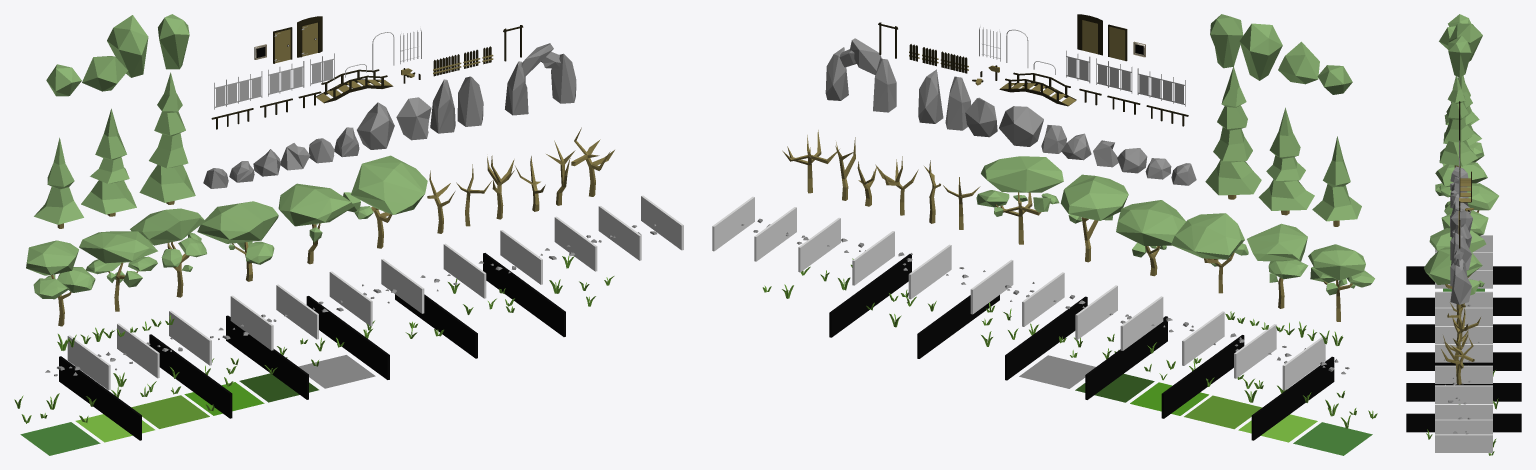
The model's file is model_set.fbx.
The picture shows the model from 3 angles, left to right: view 1: azimuth 30°, elevation 25°; view 2: azimuth 150°, elevation 25°; view 3: azimuth 270°, elevation 25°; orthographic projection. The views are drawn at different scales.
Parts seen in each view (by area): view 1: set_summer:set_summer:polySurface43, set_summer:set_summer:pCylinder3, set_summer:set_summer:pCube50, set_summer:set_summer:polySurface42, set_summer:set_summer:polySurface41, set_summer:set_summer:pSolid23, set_summer:set_summer:pCylinder2, set_summer:set_summer:pCylinder49, set_summer:set_summer:pCube51, set_summer:set_summer:pCube286, set_summer:set_summer:pCube261, set_summer:set_summer:pCube262 (+36 smaller); view 2: set_summer:set_summer:polySurface43, set_summer:set_summer:pCylinder3, set_summer:set_summer:pSolid23, set_summer:set_summer:pCylinder49, set_summer:set_summer:pCylinder2, set_summer:set_summer:pCube50, set_summer:set_summer:pCube51, set_summer:set_summer:polySurface42, set_summer:set_summer:polySurface41, set_summer:set_summer:pCube261, set_summer:set_summer:pCube286, set_summer:set_summer:pCube262 (+35 smaller); view 3: set_summer:set_summer:pCylinder3, set_summer:set_summer:pCube264, set_summer:set_summer:pCube272, set_summer:set_summer:pCube286, set_summer:set_summer:polySurface43, set_summer:set_summer:pCube262, set_summer:set_summer:pCube263, set_summer:set_summer:pCube298, set_summer:set_summer:pCube295, set_summer:set_summer:pCube294, set_summer:set_summer:pCube261, set_summer:set_summer:pCube291 (+30 smaller).
Part boxes in pixels (x1=…): set_summer:set_summer:polySurface43: x1=343, y1=155, x2=427, y2=248; set_summer:set_summer:pCylinder3: x1=139, y1=72, x2=195, y2=204; set_summer:set_summer:pCube50: x1=197, y1=201, x2=278, y2=281; set_summer:set_summer:polySurface42: x1=79, y1=231, x2=157, y2=311; set_summer:set_summer:polySurface41: x1=26, y1=240, x2=95, y2=326; set_summer:set_summer:pSolid23: x1=130, y1=208, x2=206, y2=297; set_summer:set_summer:pCylinder2: x1=81, y1=108, x2=136, y2=216; set_summer:set_summer:pCylinder49: x1=505, y1=43, x2=576, y2=115; set_summer:set_summer:pCube51: x1=278, y1=183, x2=353, y2=264; set_summer:set_summer:pCube286: x1=483, y1=253, x2=565, y2=336; set_summer:set_summer:pCube261: x1=59, y1=356, x2=141, y2=440; set_summer:set_summer:pCube262: x1=149, y1=334, x2=232, y2=418; set_summer:set_summer:polySurface43: x1=976, y1=156, x2=1063, y2=244; set_summer:set_summer:pCylinder3: x1=1205, y1=66, x2=1261, y2=199; set_summer:set_summer:pSolid23: x1=1171, y1=213, x2=1248, y2=293; set_summer:set_summer:pCylinder49: x1=825, y1=38, x2=896, y2=112; set_summer:set_summer:pCylinder2: x1=1258, y1=107, x2=1314, y2=215; set_summer:set_summer:pCube50: x1=1116, y1=200, x2=1185, y2=276; set_summer:set_summer:pCube51: x1=1060, y1=174, x2=1128, y2=262; set_summer:set_summer:polySurface42: x1=1247, y1=223, x2=1308, y2=308; set_summer:set_summer:polySurface41: x1=1308, y1=244, x2=1374, y2=321; set_summer:set_summer:pCube261: x1=1251, y1=356, x2=1334, y2=440; set_summer:set_summer:pCube286: x1=829, y1=253, x2=911, y2=337; set_summer:set_summer:pCube262: x1=1161, y1=335, x2=1244, y2=418; set_summer:set_summer:pCylinder3: x1=1439, y1=76, x2=1478, y2=167; set_summer:set_summer:pCube264: x1=1406, y1=352, x2=1521, y2=370; set_summer:set_summer:pCube272: x1=1406, y1=383, x2=1521, y2=401; set_summer:set_summer:pCube286: x1=1406, y1=413, x2=1521, y2=432; set_summer:set_summer:polySurface43: x1=1424, y1=247, x2=1484, y2=309; set_summer:set_summer:pCube262: x1=1406, y1=297, x2=1521, y2=315; set_summer:set_summer:pCube263: x1=1406, y1=324, x2=1521, y2=342; set_summer:set_summer:pCube298: x1=1435, y1=434, x2=1492, y2=452; set_summer:set_summer:pCube295: x1=1435, y1=385, x2=1492, y2=403; set_summer:set_summer:pCube294: x1=1435, y1=365, x2=1492, y2=383; set_summer:set_summer:pCube261: x1=1406, y1=266, x2=1521, y2=284; set_summer:set_summer:pCube291: x1=1435, y1=307, x2=1492, y2=325.
Bounding box in the file's own units: 54.29 × 32.42 × 11.82.
